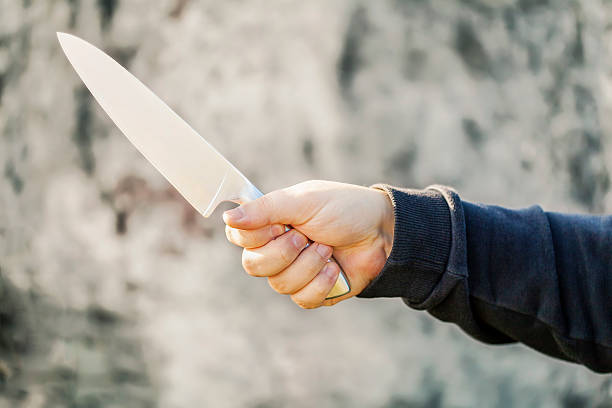knife: (54, 30, 350, 303)
